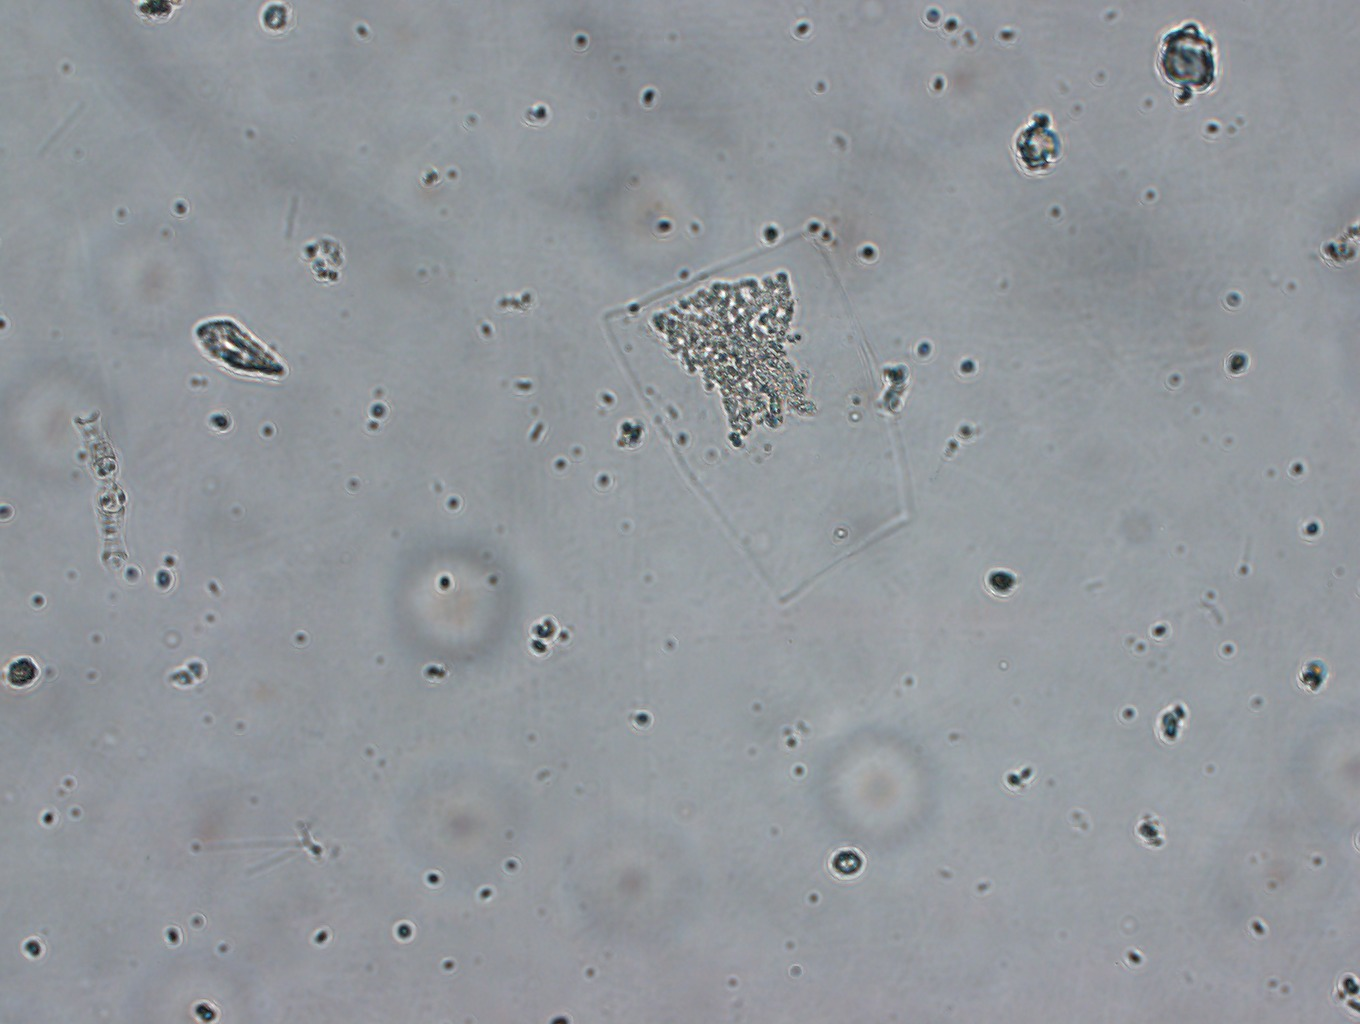helicotheca: (587, 219, 918, 611)
